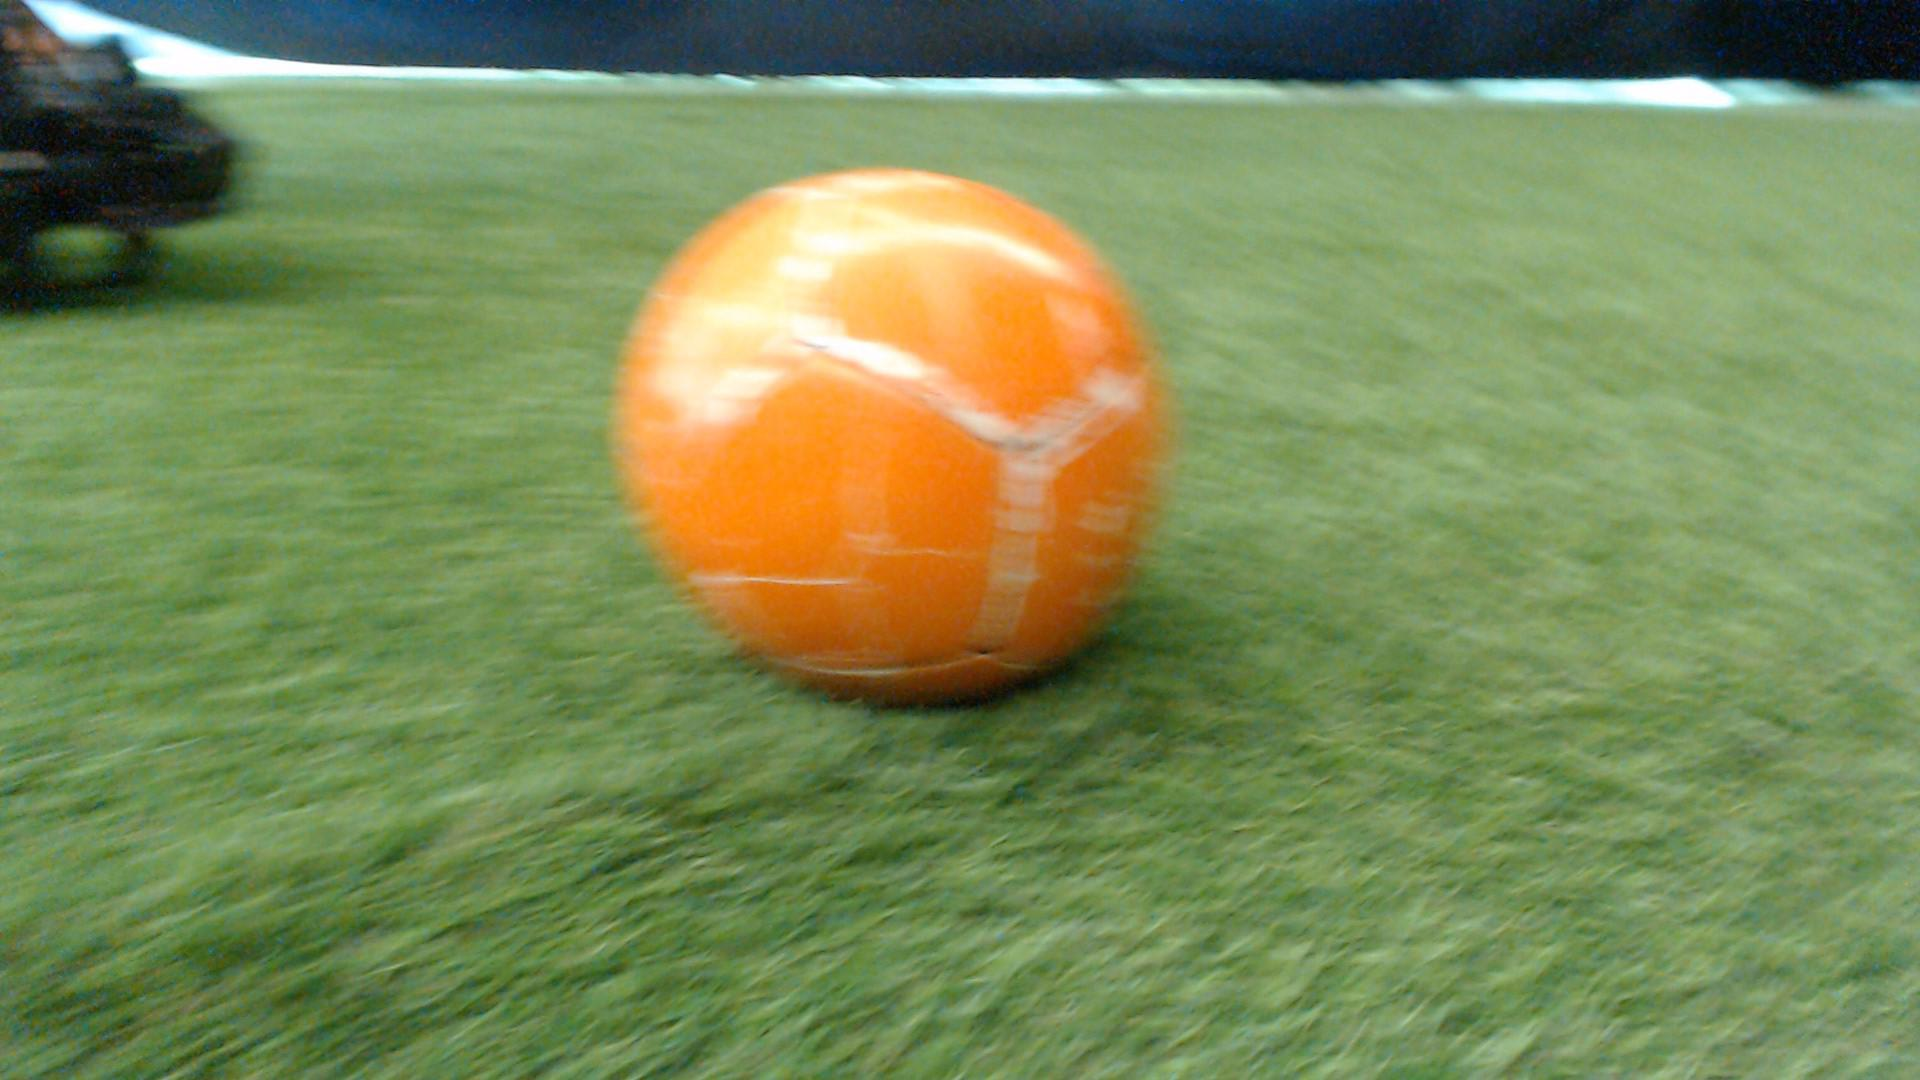bola: (584, 134, 1234, 760)
